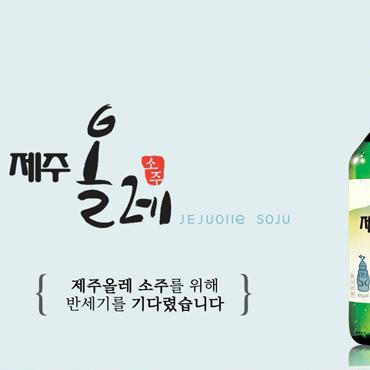soju: (345, 117, 370, 346)
